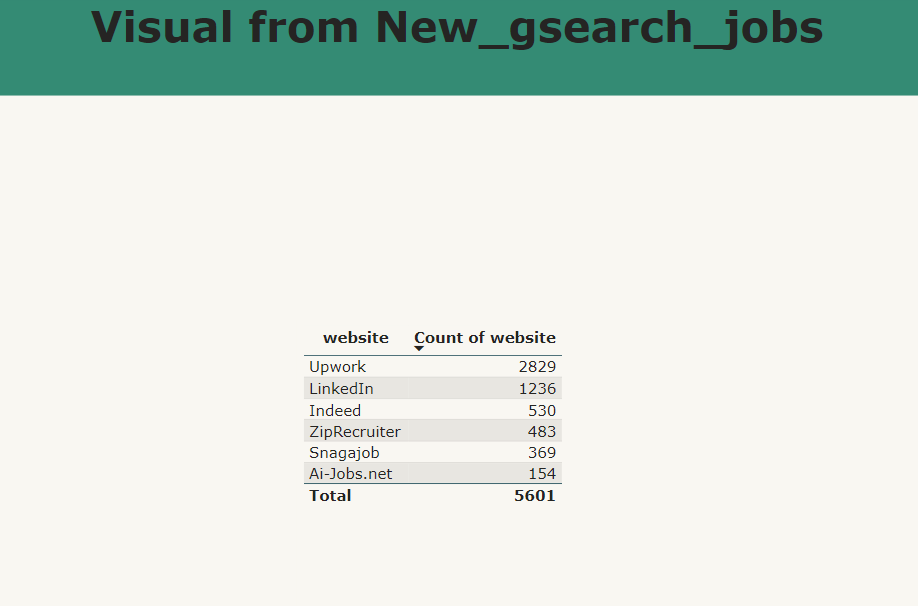

The page's visual inventory and layout, read from the dashboard file:
{"tool":"powerbi","page":{"name":"New_gsearch_jobs","canvas":[1280,720],"ordinal":7},"visuals":[{"type":"tableEx","fields":{"Values":["New_gsearch_jobs.website1","New_gsearch_jobs.website"]},"box":[497.7,289.9,314.3,261.7],"z":0},{"type":"textbox","box":[0,0,1280.3,90.3],"z":1000}]}

Visuals, with their boxes on the page's 1280x720 design canvas (x1, y1, x2, y2). These are canvas units, not pixel positions in the 918x606 screenshot, which may show the page scaled, cropped or inside an application window:
tableEx - New_gsearch_jobs.website1 x New_gsearch_jobs.website: select_region(498, 290, 812, 552)
textbox: select_region(0, 0, 1280, 90)
